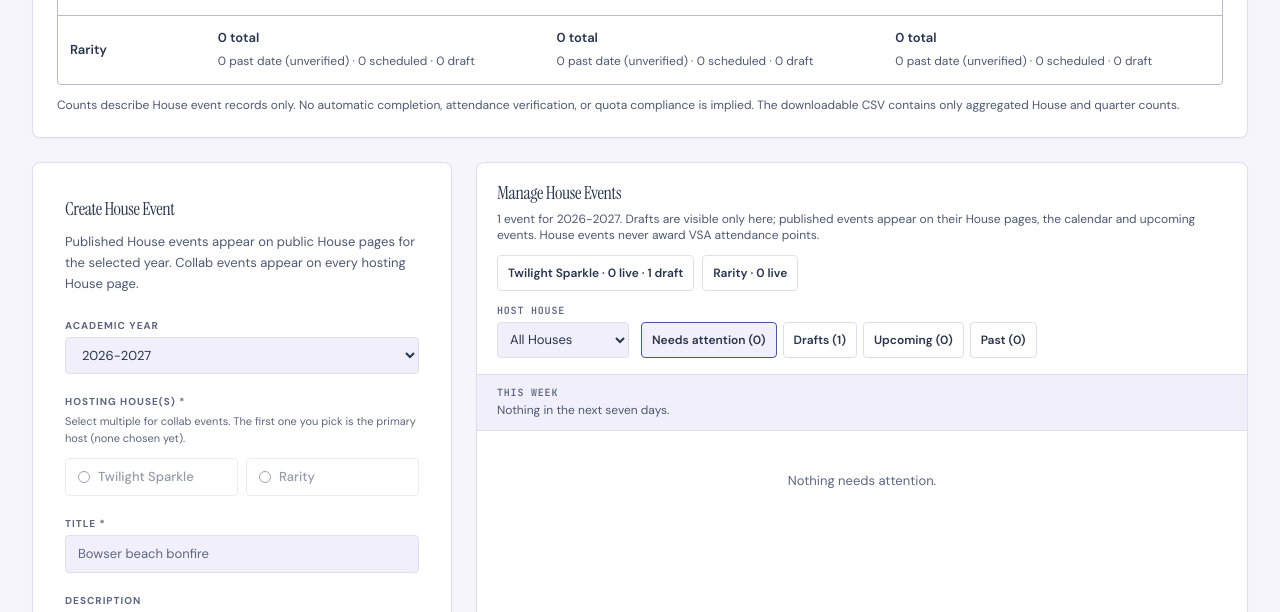
shows a failed publish in the dialog instead of closing it
The image size is (1280, 612).
(page scrolled)
Click the button "Drafts (1)" at (820, 340), box top-left (783, 322), bottom-right (857, 358)
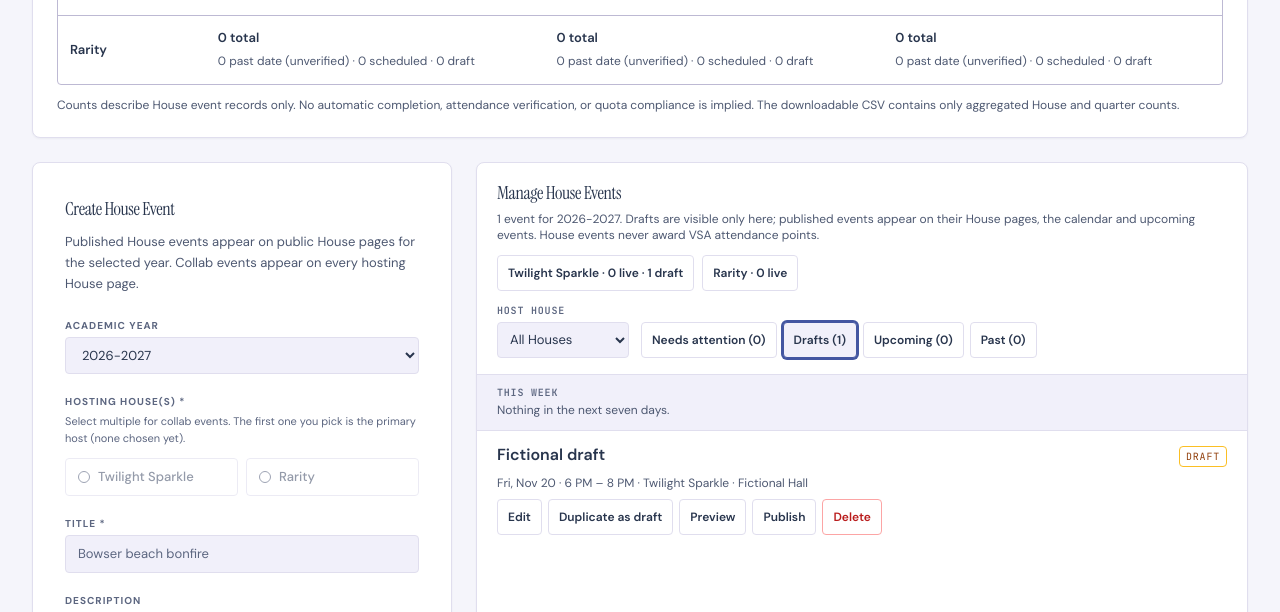
Click the button with aria-label "Publish Fictional draft" at (784, 517), box top-left (752, 499), bottom-right (816, 535)
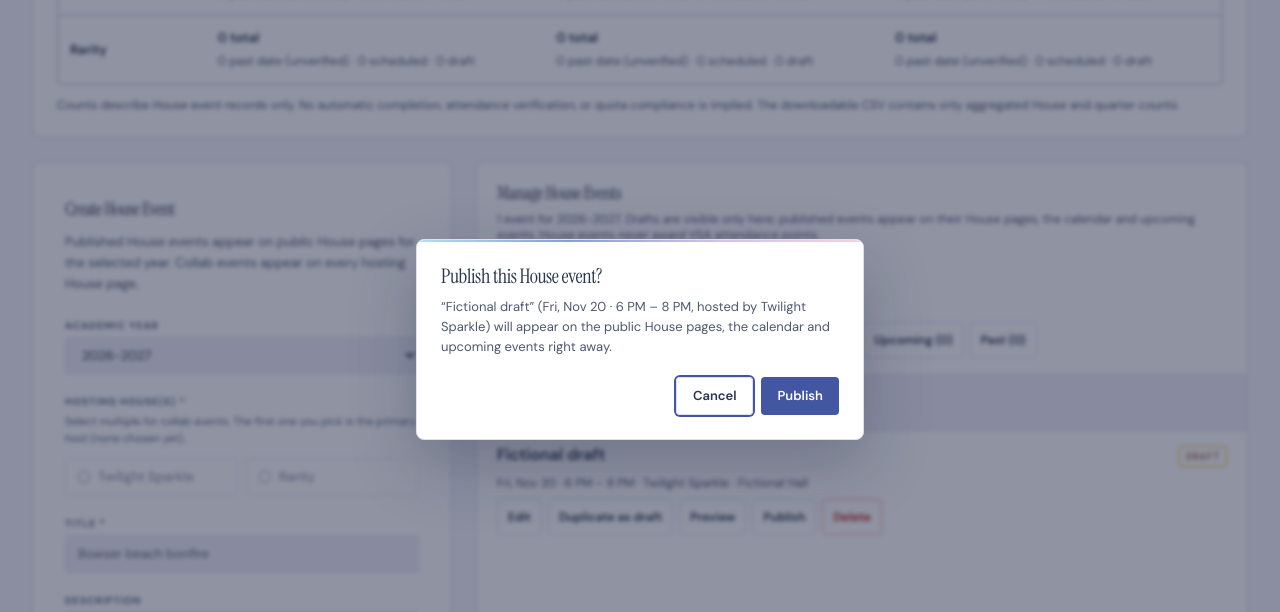
Click the button "Publish" at (800, 396), box top-left (762, 376), bottom-right (839, 414)
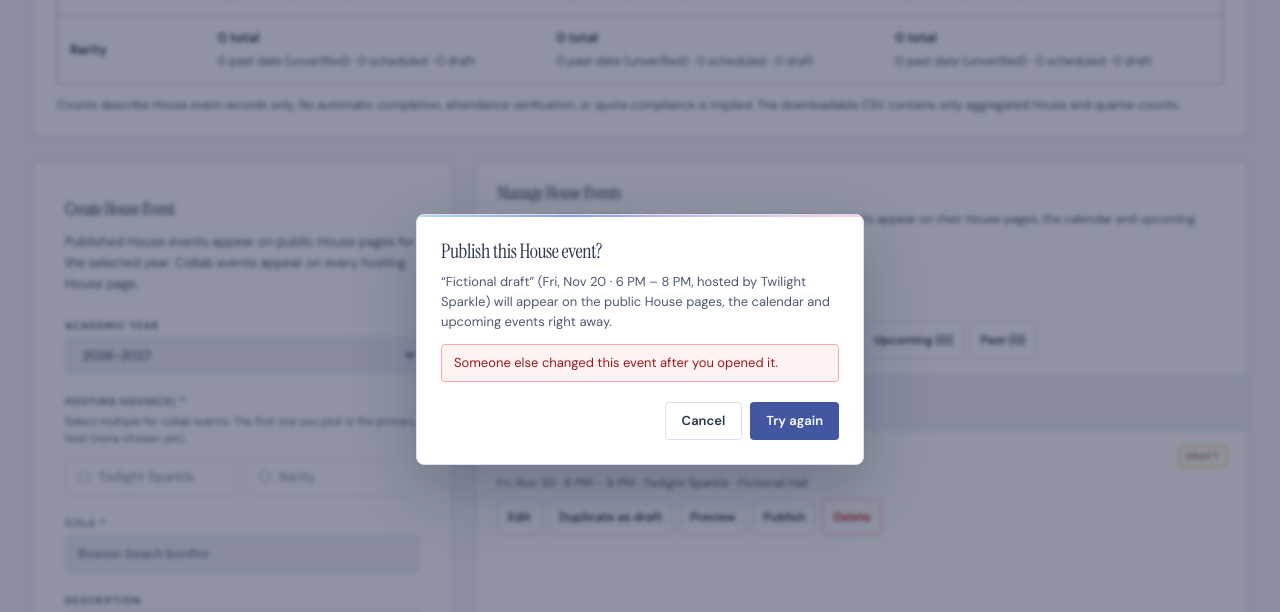
Now the text "Someone else changed this event after you opened it." is shown, box top-left (441, 344), bottom-right (839, 382)
